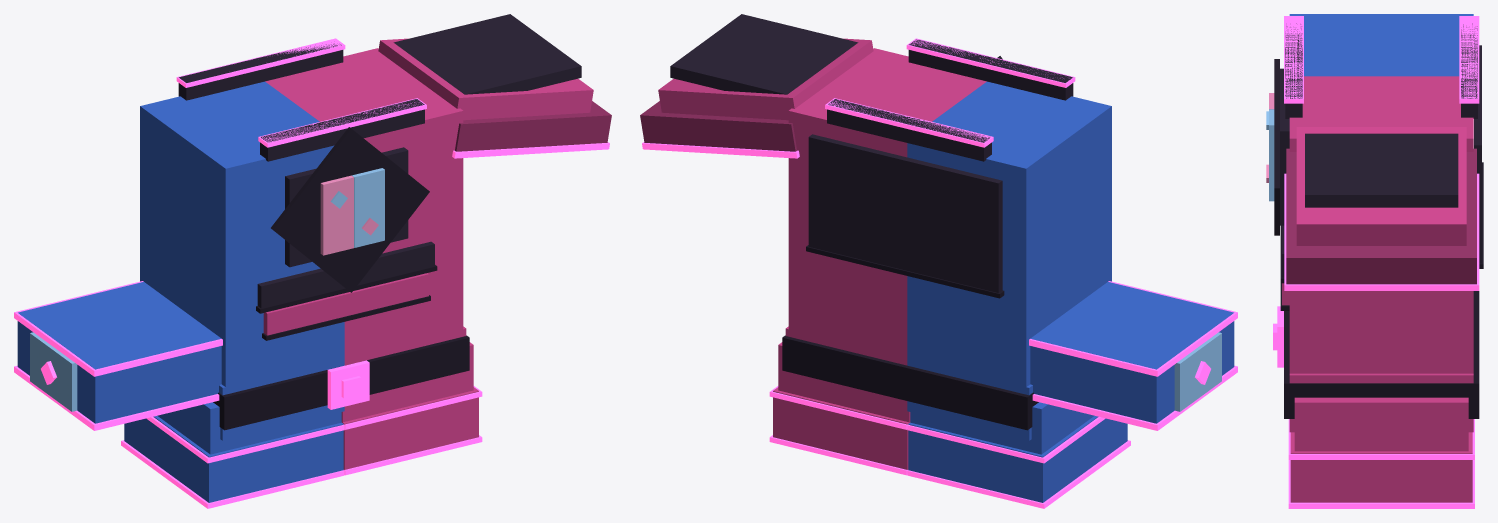
3 views of the same model, side by side, from view 1: azimuth 30°, elevation 25°; view 2: azimuth 150°, elevation 25°; view 3: azimuth 270°, elevation 25° (orthographic). The views are drawn at different scales.
Parts seen in each view (by area): view 1: rank-bipolar-c; view 2: rank-bipolar-c; view 3: rank-bipolar-c.
Boxes of the visible parts, left/top/right/bottom form: rank-bipolar-c: left=14, top=14, right=611, bottom=508; rank-bipolar-c: left=640, top=14, right=1237, bottom=508; rank-bipolar-c: left=1266, top=14, right=1483, bottom=508.
Bounding box in the file's own units: 1.21 × 0.7804 × 0.405.
